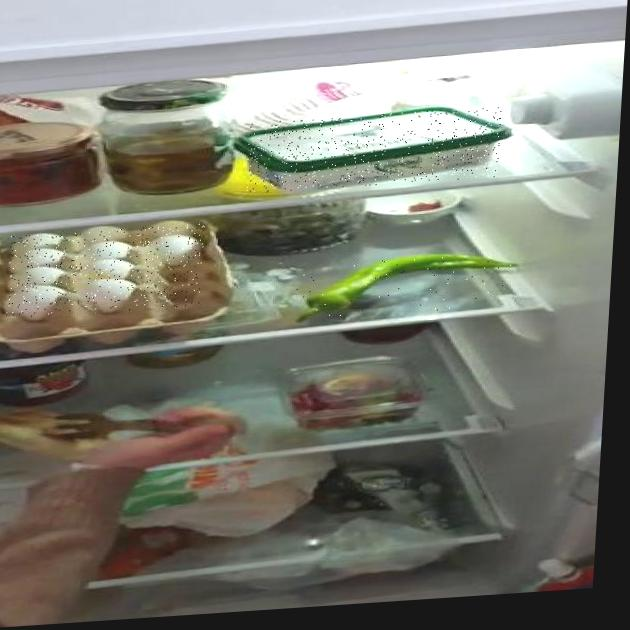cream cheese: (246, 106, 502, 194)
eggs: (6, 223, 205, 318)
green chilies: (295, 252, 512, 320)
